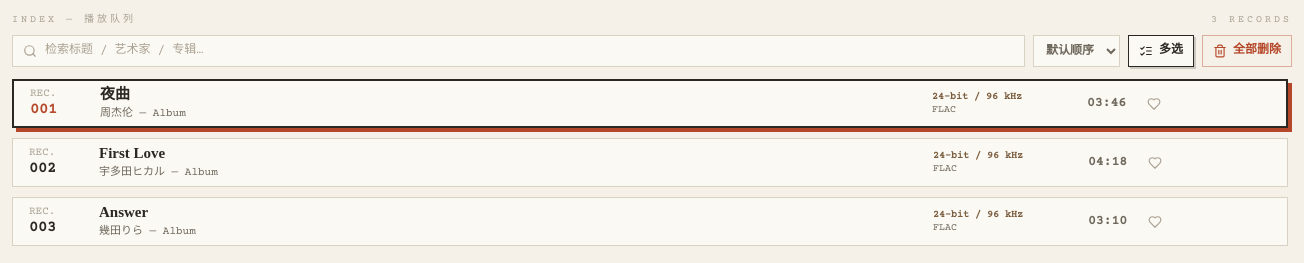
Test case: TrackRows › 清除检索恢复完整列表
Type "first" into the field named "检索曲目" at (530, 51), box [45,43,1014,59]
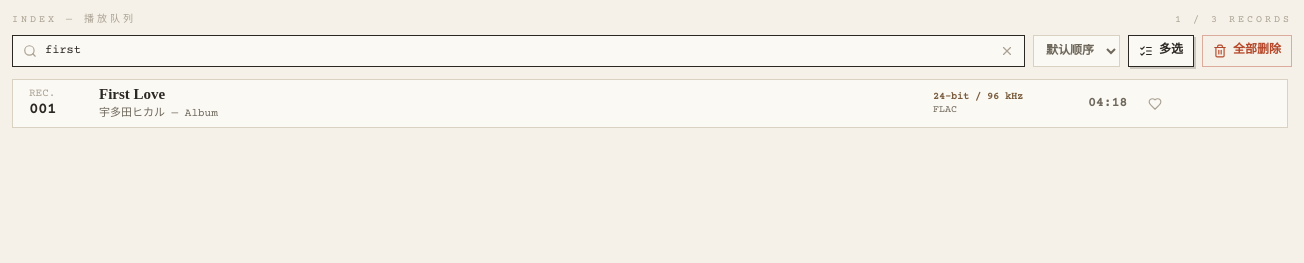
Click the button named "清除检索" at (1007, 51), box [1000,44,1014,58]
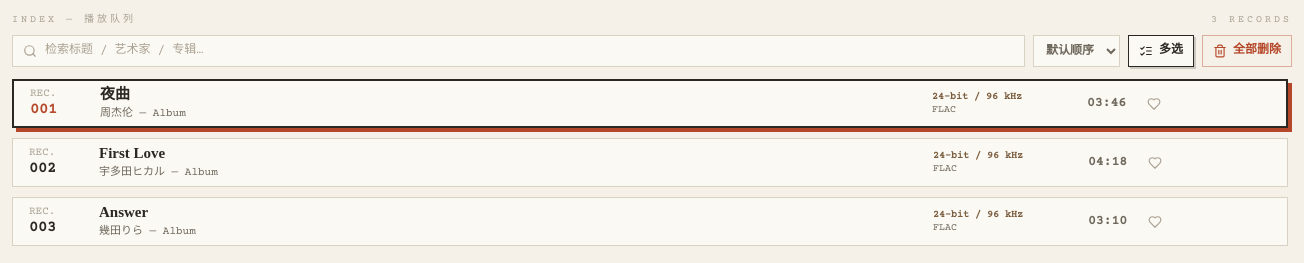
Expected: the text "3 RECORDS" is shown, [1211,12,1292,27]
Now the text "夜曲" is shown, box [100,85,130,104]
